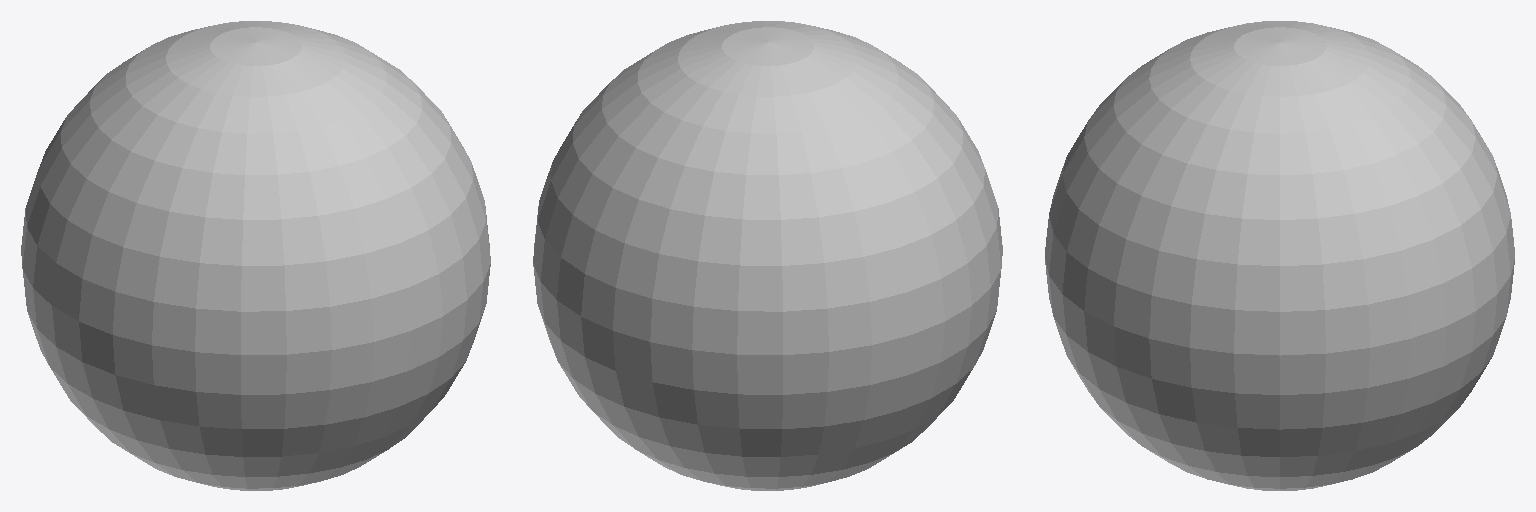
The model's file is hollow_sphere.obj.
3 views of the same model, side by side, from view 1: azimuth 30°, elevation 25°; view 2: azimuth 150°, elevation 25°; view 3: azimuth 270°, elevation 25° (orthographic).
Visible parts, largest first — view 1: Sphere; view 2: Sphere; view 3: Sphere.
Part boxes in pixels (x1,y1,x2,y2): Sphere: (21, 21, 490, 490); Sphere: (533, 21, 1002, 490); Sphere: (1045, 21, 1514, 490).
Size of the model in its own units: 1.99 by 1.99 by 1.99.